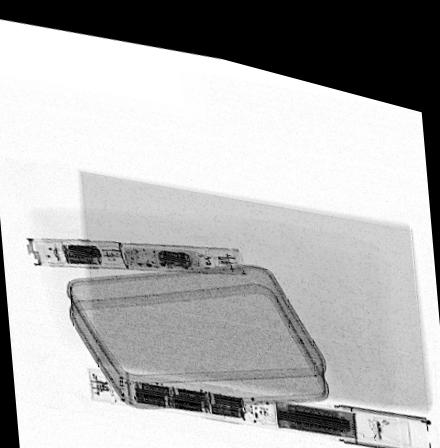Baton: (86, 364, 437, 434), (24, 234, 245, 262)
